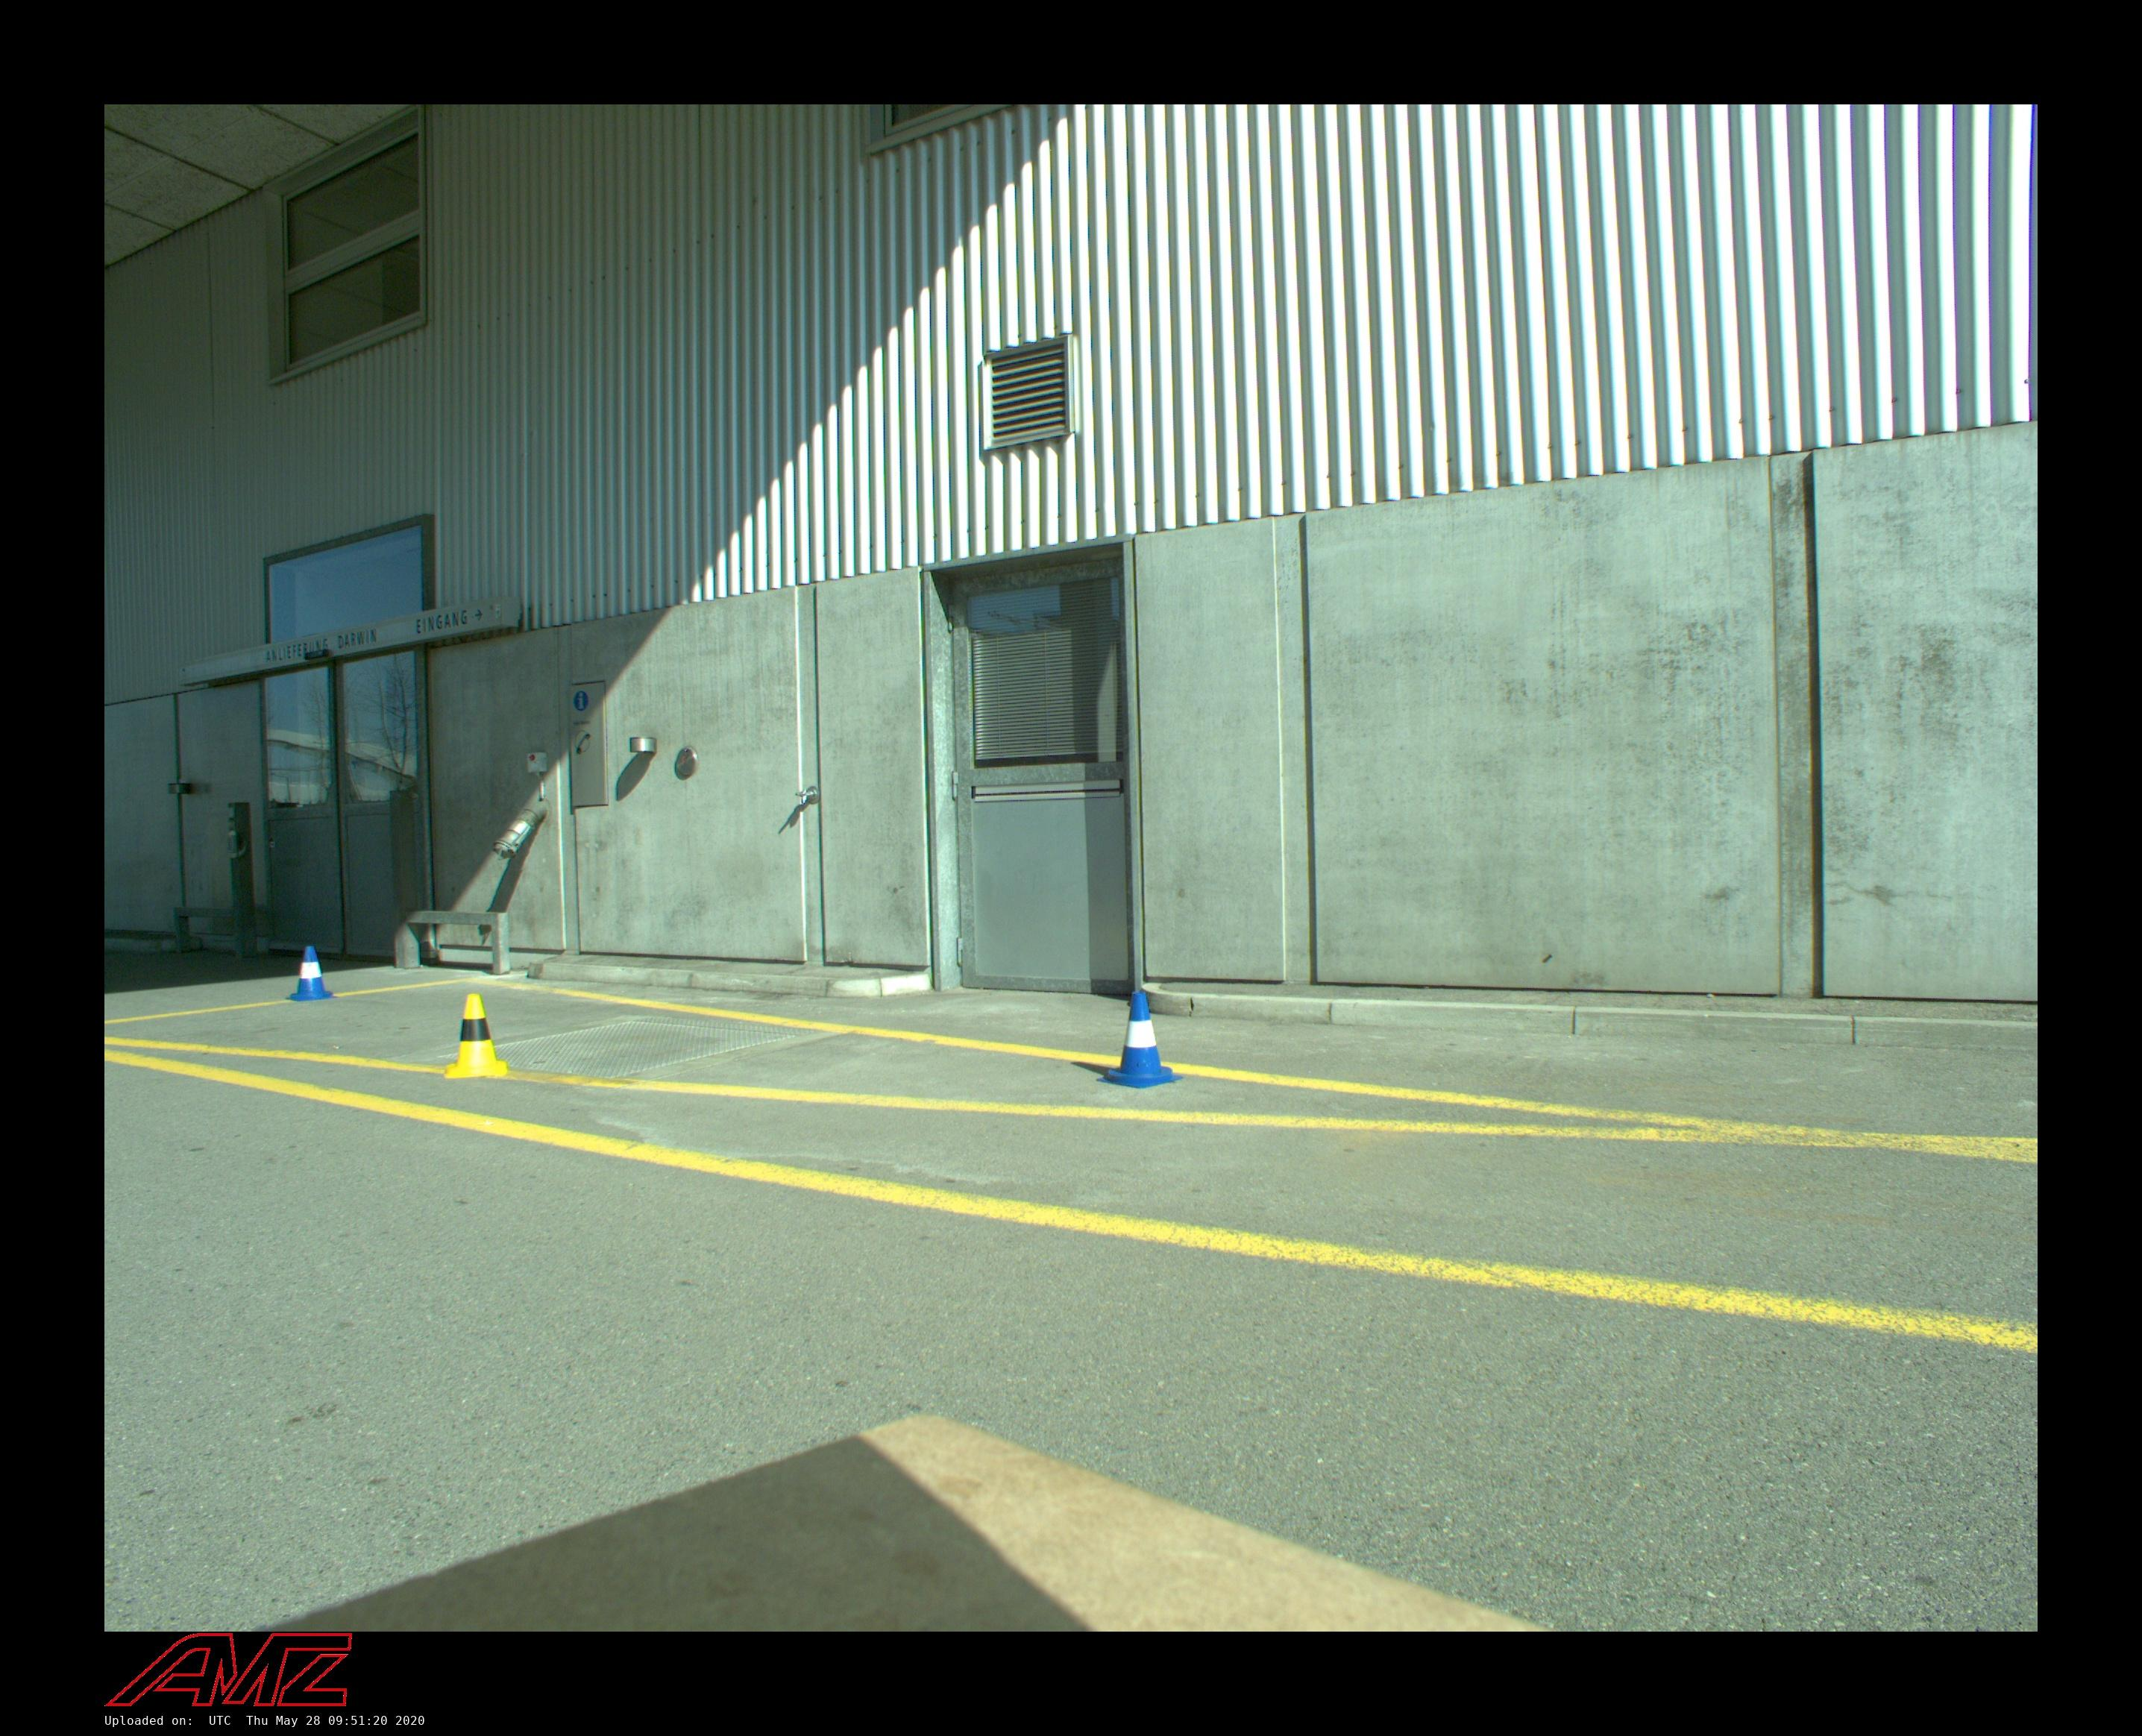blue_cone: (1097, 992, 1184, 1089), (285, 946, 337, 1001)
yellow_cone: (443, 996, 507, 1079)
